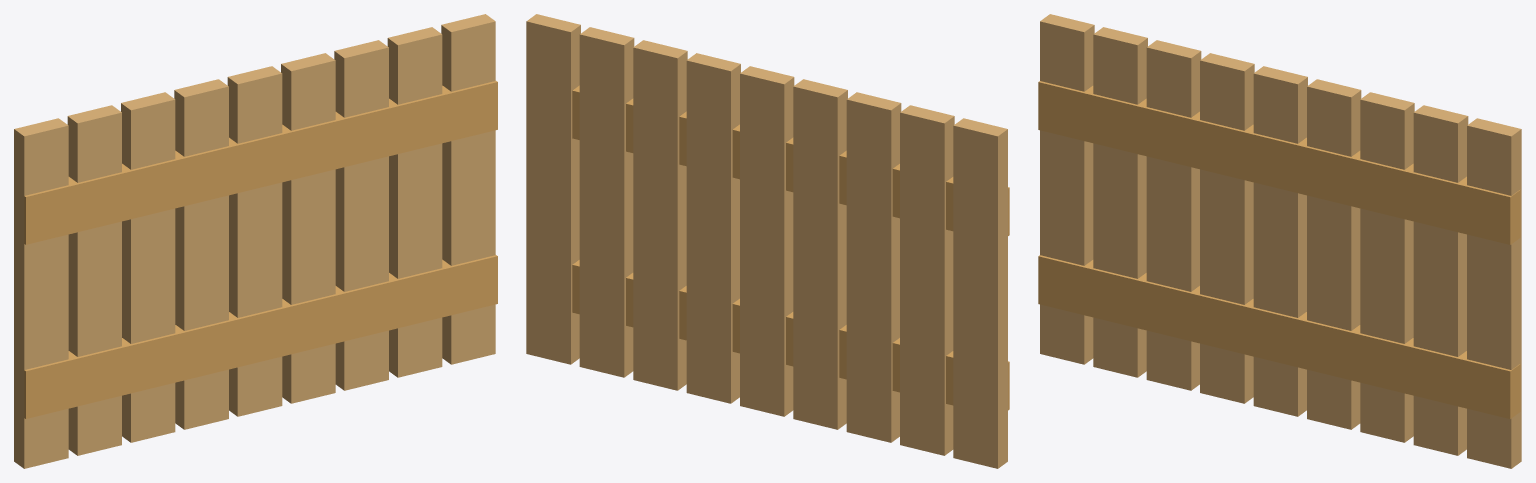
The model's file is Fence_Broken.fbx.
The picture shows the model from 3 angles, left to right: view 1: azimuth 30°, elevation 25°; view 2: azimuth 150°, elevation 25°; view 3: azimuth 330°, elevation 25°; orthographic projection.
Visible parts, largest first — view 1: Fence.008, Fence.024, Fence.025, Fence.009, Fence.012, Fence.010, Fence.007, Fence.016, Fence.015, Fence.019, Fence.001, Fence.017 (+12 smaller); view 2: Fence.012, Fence.015, Fence.019, Fence.016, Fence.021, Fence.018, Fence.020, Fence.023, Fence.001, Fence.014, Fence.017, Fence.022 (+12 smaller); view 3: Fence.008, Fence.024, Fence.025, Fence.009, Fence.015, Fence.016, Fence.019, Fence.012, Fence.010, Fence.007, Fence.023, Fence.022 (+12 smaller).
Part boxes in pixels (x1,y1,x2,y2): Fence.008: (145,114,353,211); Fence.024: (145,289,353,385); Fence.025: (331,255,497,341); Fence.009: (331,81,497,167); Fence.012: (14,118,68,325); Fence.010: (24,338,174,418); Fence.007: (24,163,174,244); Fence.016: (174,79,228,286); Fence.015: (121,92,175,299); Fence.019: (334,40,388,247); Fence.001: (14,293,68,468); Fence.017: (229,211,282,416); Fence.012: (953,118,1007,325); Fence.015: (846,92,901,299); Fence.019: (633,40,687,247); Fence.016: (793,79,847,286); Fence.021: (579,172,633,377); Fence.018: (686,198,739,403); Fence.020: (579,27,634,216); Fence.023: (526,159,579,364); Fence.001: (953,292,1007,468); Fence.014: (900,250,953,455); Fence.017: (740,211,793,416); Fence.022: (526,14,580,203); Fence.008: (1159,110,1366,207); Fence.024: (1159,284,1366,381); Fence.025: (1343,330,1520,419); Fence.009: (1344,156,1520,244); Fence.015: (1146,40,1201,252); Fence.016: (1200,53,1254,265); Fence.019: (1360,92,1414,305); Fence.012: (1040,14,1094,226); Fence.010: (1038,255,1187,337); Fence.007: (1038,81,1187,163); Fence.023: (1467,269,1521,468); Fence.022: (1467,118,1521,302).
Bounding box in the file's own units: 267 × 180 × 11.45.
